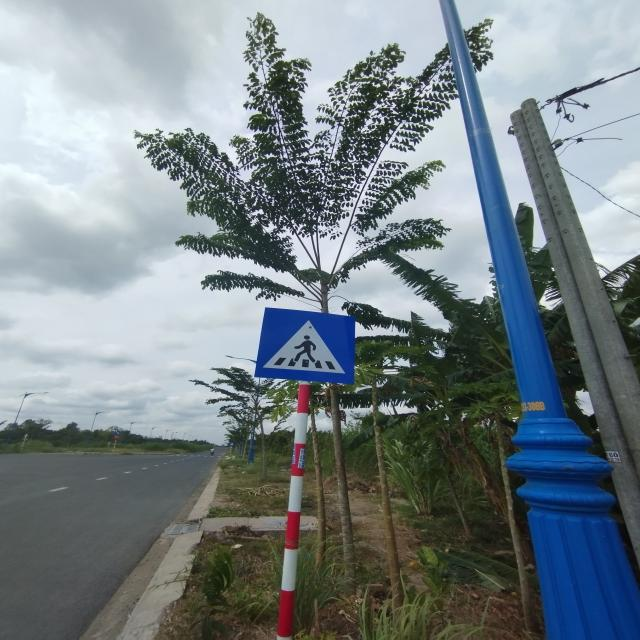Giao_Nhau_Duong_Uu_Tien: (254, 306, 354, 384)
